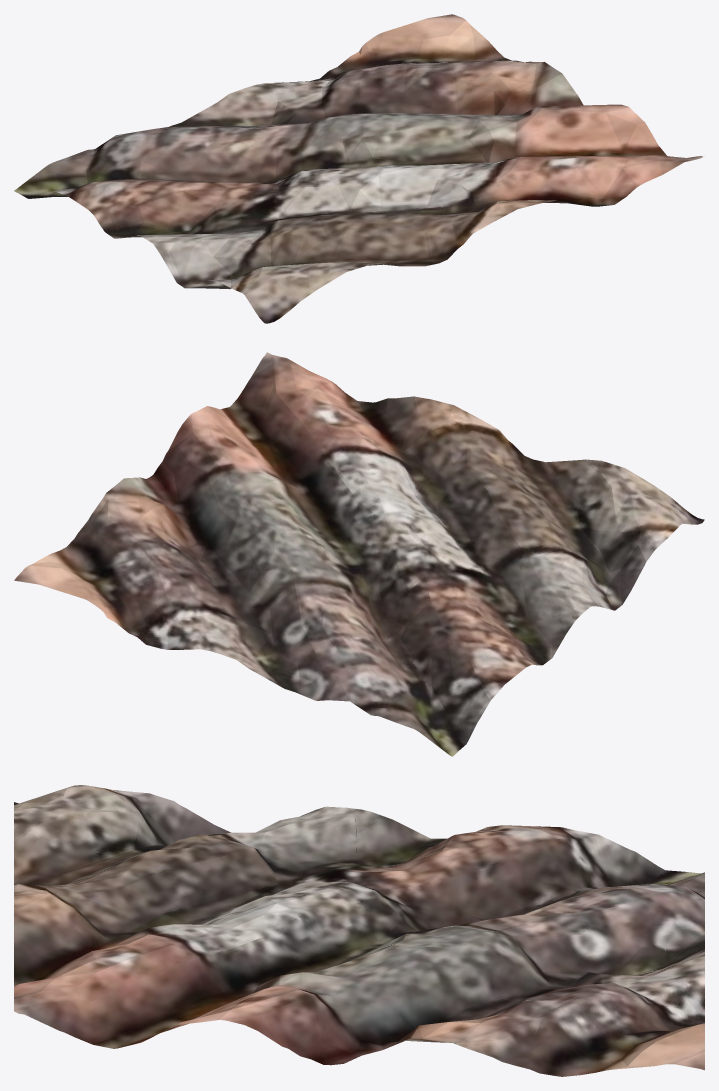
3 renders of one model, top to bottom at view 1: azimuth 30°, elevation 25°; view 2: azimuth 150°, elevation 25°; view 3: azimuth 270°, elevation 25°, orthographic. The views are drawn at different scales.
Size of the model in its own units: 0.8373 by 0.2064 by 0.8373.
3 materials, 3 textured.
